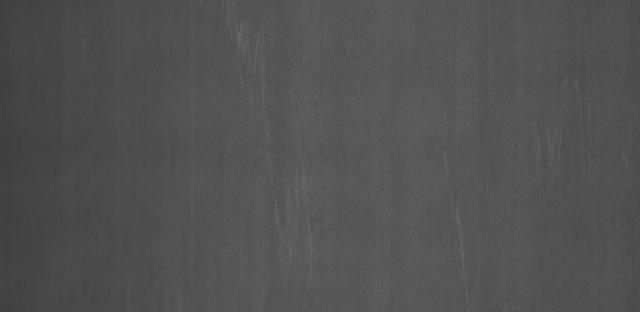silk_spot: (250, 162, 325, 284), (211, 17, 276, 109), (432, 202, 484, 282)
